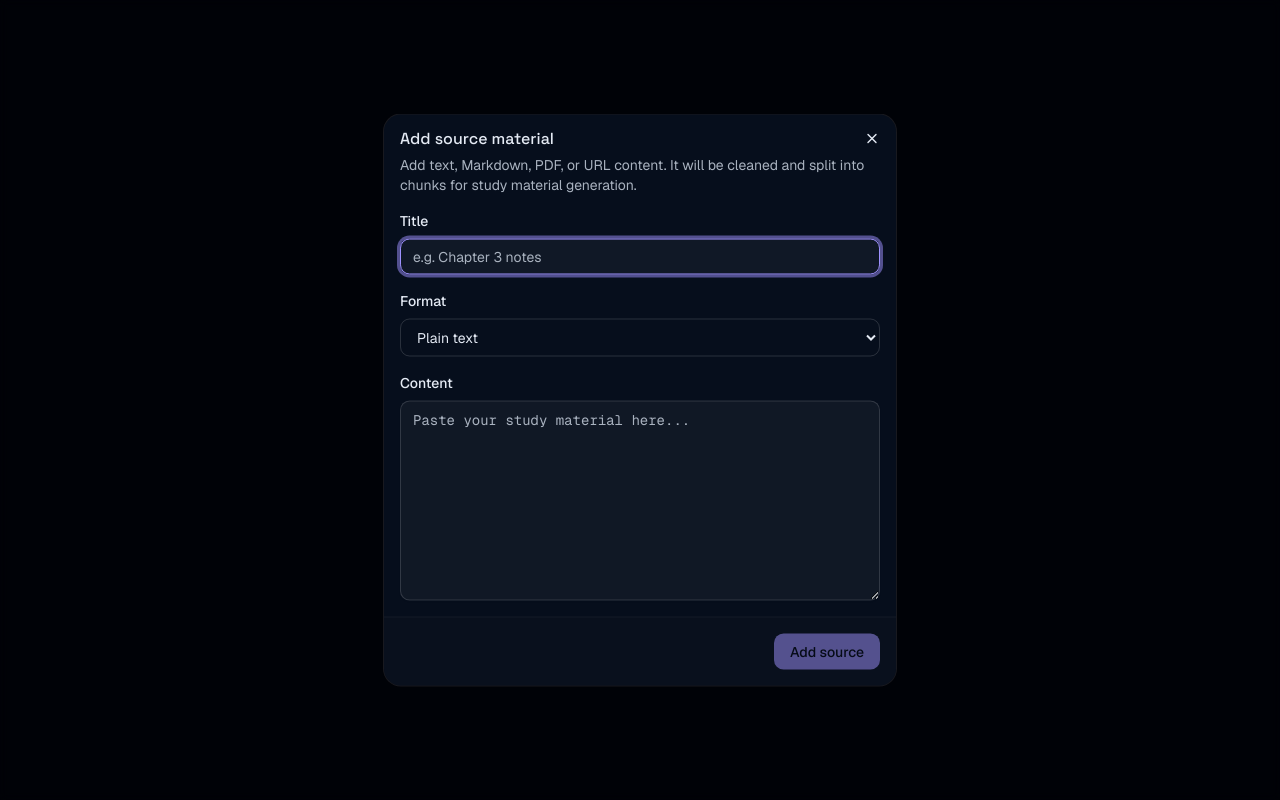
Scenario: CreateSourceDialog › surfaces repository errors instead of closing
This screenshot has width=1280, height=800.
Type "Chapter 1" into the field labelled "Title".
click(640, 256); type("Chapter 1")  # box [400,238,880,274]
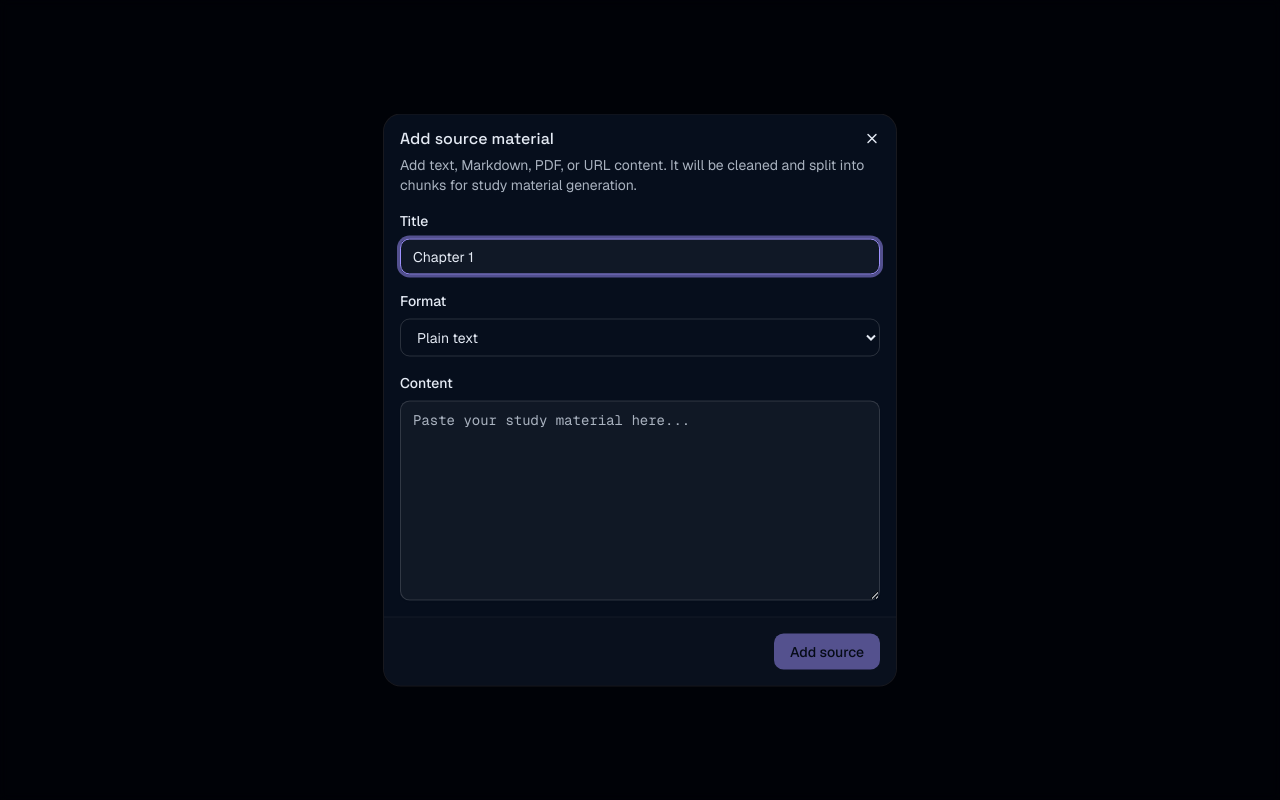
Type "Content." into the text box labelled "Content".
click(640, 500); type("Content.")  # box [400,400,880,600]
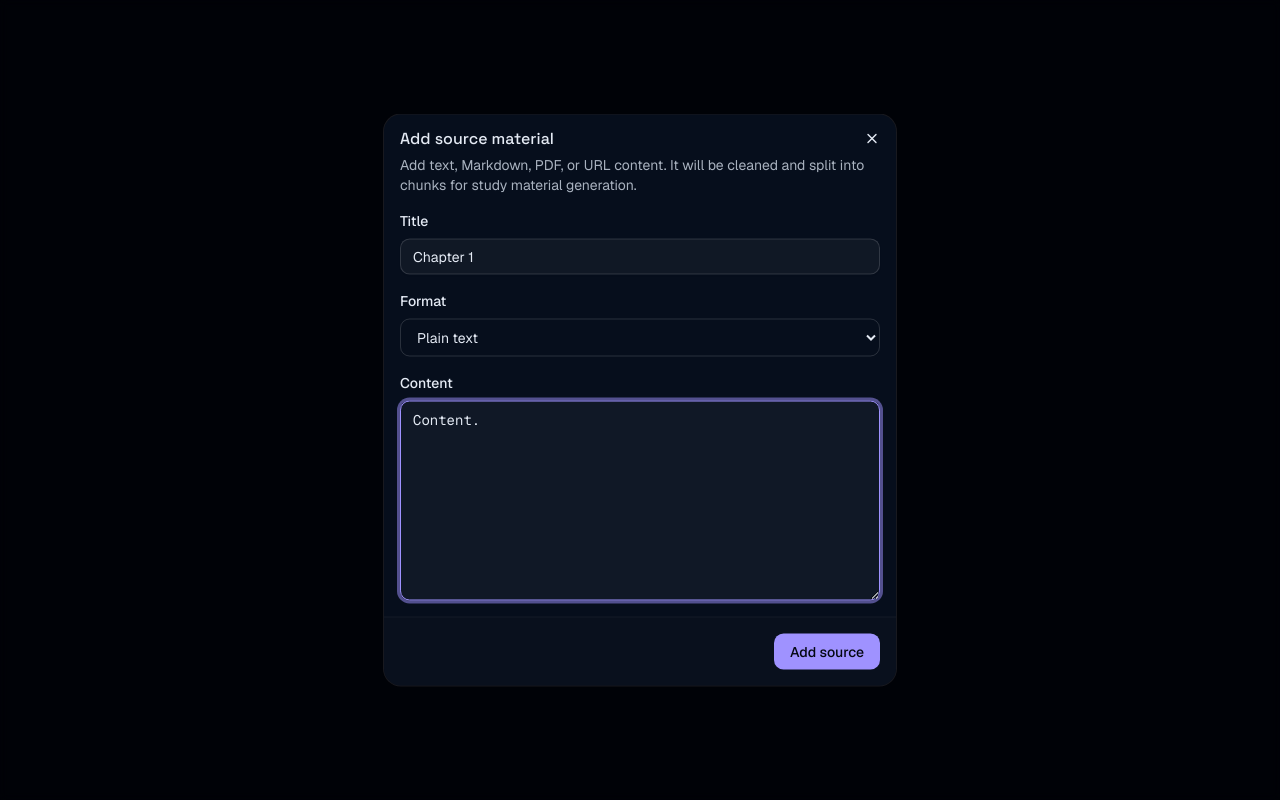
Click the button "Add source".
click(827, 652)  # box [774,634,880,670]
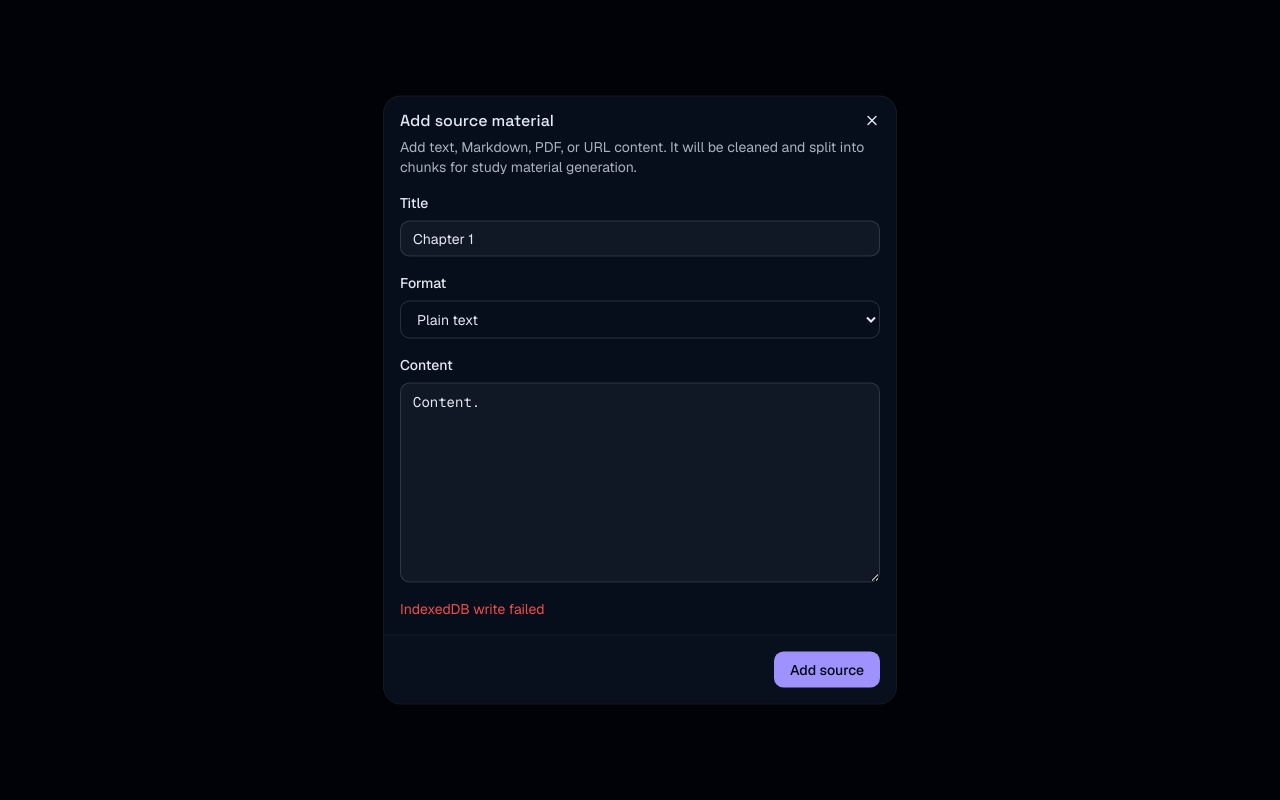
Expected: the text "IndexedDB write failed" is shown, [400,600,544,618]
